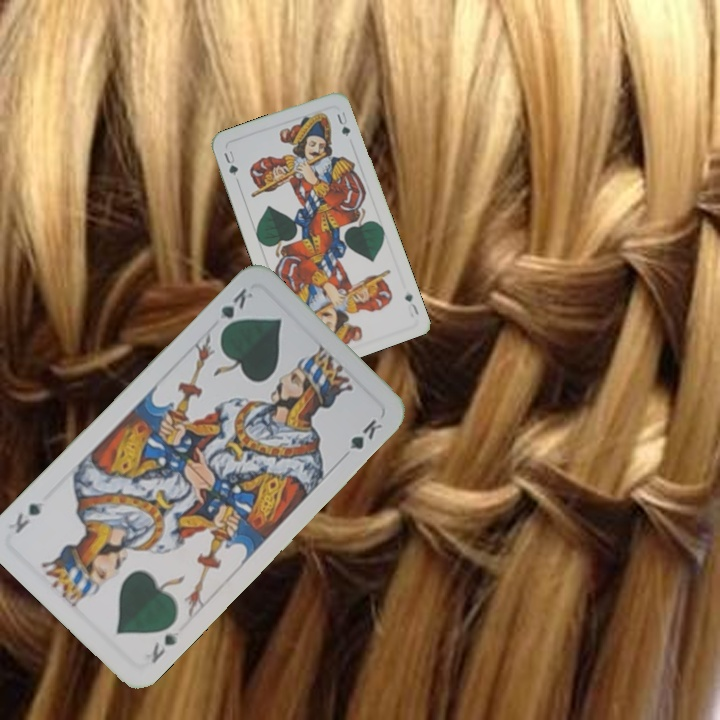GK: (215, 284, 256, 336), (147, 629, 181, 667)
GU: (220, 146, 241, 178), (401, 290, 421, 317)
